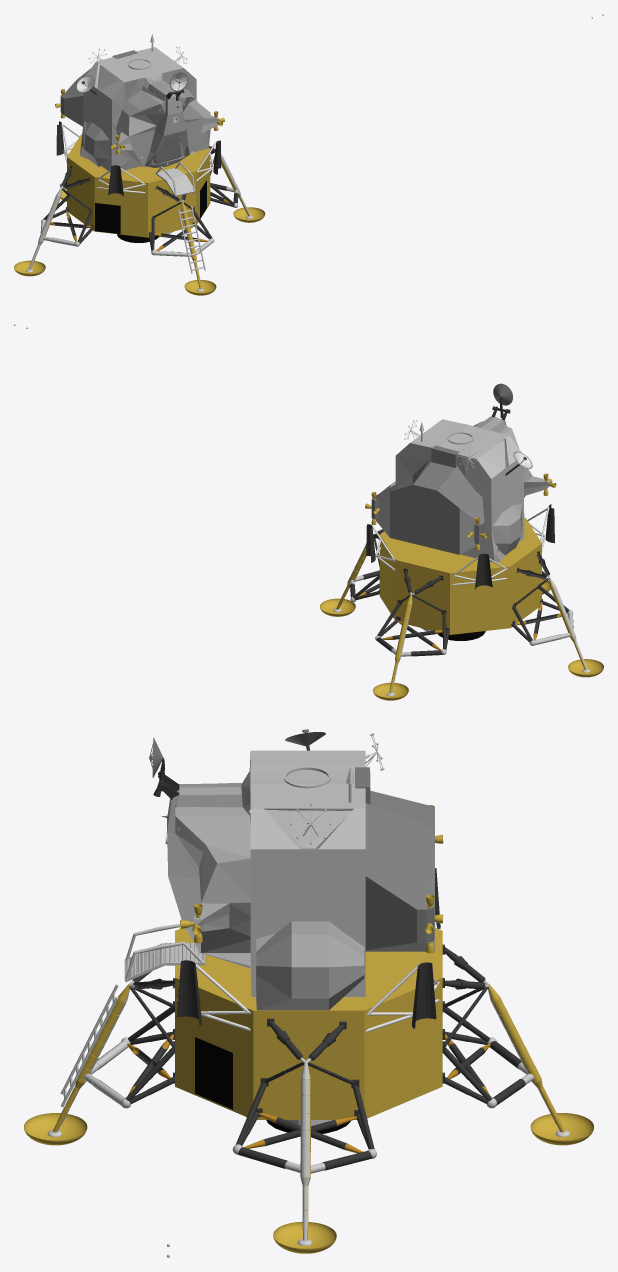
Rendered from Apollo11.fbx.
The picture shows the model from 3 angles, top to bottom: view 1: azimuth 30°, elevation 25°; view 2: azimuth 150°, elevation 25°; view 3: azimuth 270°, elevation 25°; orthographic projection. The views are drawn at different scales.
Visible parts, largest first — view 1: polySurfac, pCylinder1, group31 19, pCylinde10, pCube2, group31 16, pPlane1, group31 15, pCube3, polySurfa1, pCube27, group31 g6; view 2: pCylinder1, polySurfac, pCube2, group31 19, pCylinde10, group31 16, group31 15; view 3: polySurfac, pCylinder1, pCube2, pCylinder9, group31 19, group31 16, group31 15, pPlane2, pCube3, group31 g7, group31 g8, group31 g6 (+10 smaller).
Boxes of the visible parts, x1,y1,x2,y2 form: polySurfac: [80, 47, 219, 172]; pCylinder1: [67, 134, 210, 237]; group31 19: [14, 188, 265, 295]; pCylinde10: [80, 121, 110, 166]; pCube2: [61, 50, 137, 126]; group31 16: [31, 155, 248, 289]; pPlane1: [95, 203, 120, 233]; group31 15: [28, 154, 250, 288]; pCube3: [155, 168, 195, 196]; polySurfa1: [177, 206, 205, 273]; pCube27: [153, 136, 181, 163]; group31 g6: [43, 190, 238, 256]; pCylinder1: [379, 517, 541, 634]; polySurfac: [395, 416, 550, 562]; pCube2: [375, 445, 484, 554]; group31 19: [320, 579, 603, 700]; pCylinde10: [492, 504, 522, 562]; group31 16: [337, 546, 585, 693]; group31 15: [336, 534, 587, 692]; polySurfac: [167, 750, 365, 996]; pCylinder1: [175, 928, 442, 1119]; pCube2: [355, 767, 434, 951]; pCylinder9: [256, 921, 364, 1010]; group31 19: [24, 1113, 593, 1253]; group31 16: [53, 986, 564, 1239]; group31 15: [52, 984, 565, 1240]; pPlane2: [195, 1037, 232, 1109]; pCube3: [124, 942, 204, 981]; group31 g7: [83, 1073, 534, 1173]; group31 g8: [128, 1034, 489, 1153]; group31 g6: [90, 1041, 527, 1172].
Size of the model in its own units: 144 by 50.13 by 64.27.
